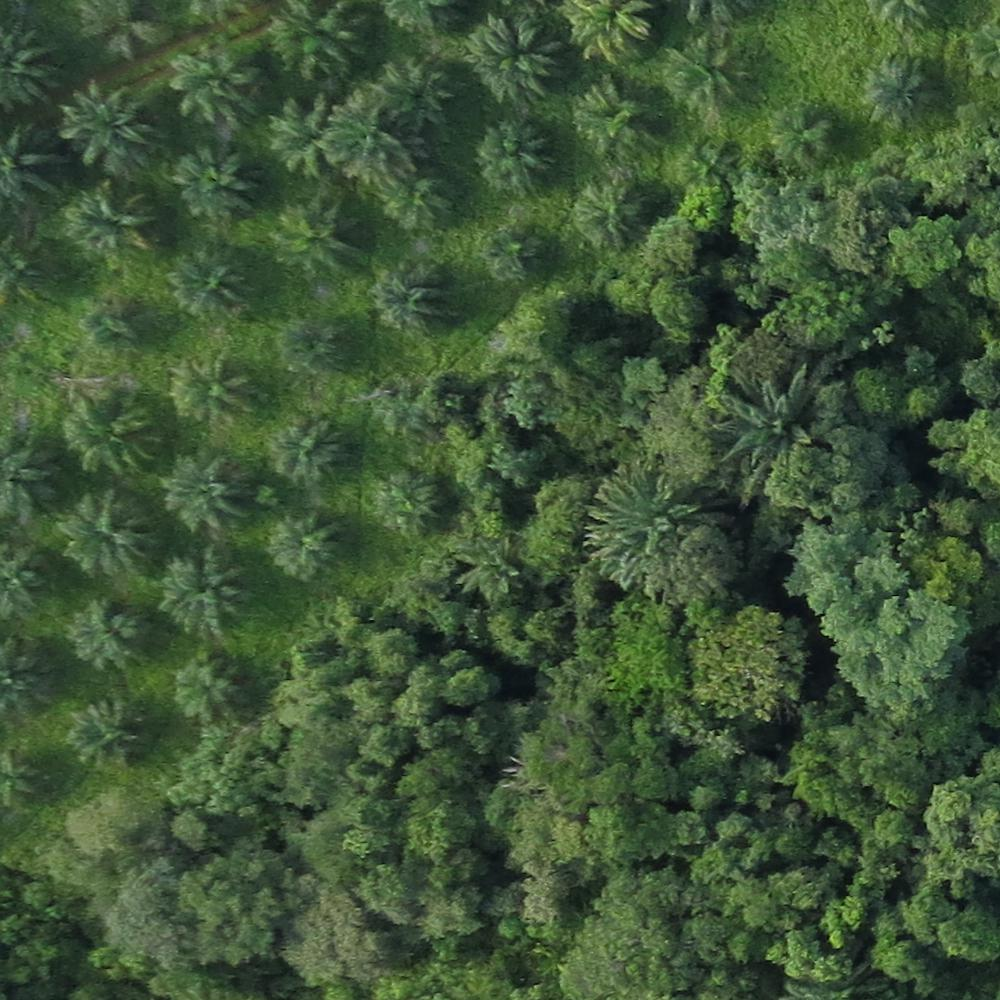Palm: (61, 391, 163, 477), (320, 95, 419, 180), (56, 180, 154, 265), (164, 43, 261, 125), (155, 554, 252, 636), (58, 81, 150, 167), (464, 14, 558, 97), (57, 496, 153, 576), (661, 35, 755, 115), (165, 351, 258, 428), (164, 451, 250, 533), (170, 143, 262, 218), (271, 7, 366, 78), (572, 79, 657, 157), (274, 200, 362, 275), (58, 696, 147, 769), (371, 260, 456, 331), (168, 248, 249, 322), (68, 600, 149, 673), (267, 415, 350, 485), (477, 122, 554, 196), (568, 177, 650, 246), (169, 649, 247, 719), (858, 55, 931, 124), (263, 513, 340, 578), (370, 467, 442, 534), (767, 102, 840, 164), (272, 317, 344, 378), (480, 224, 547, 284)
